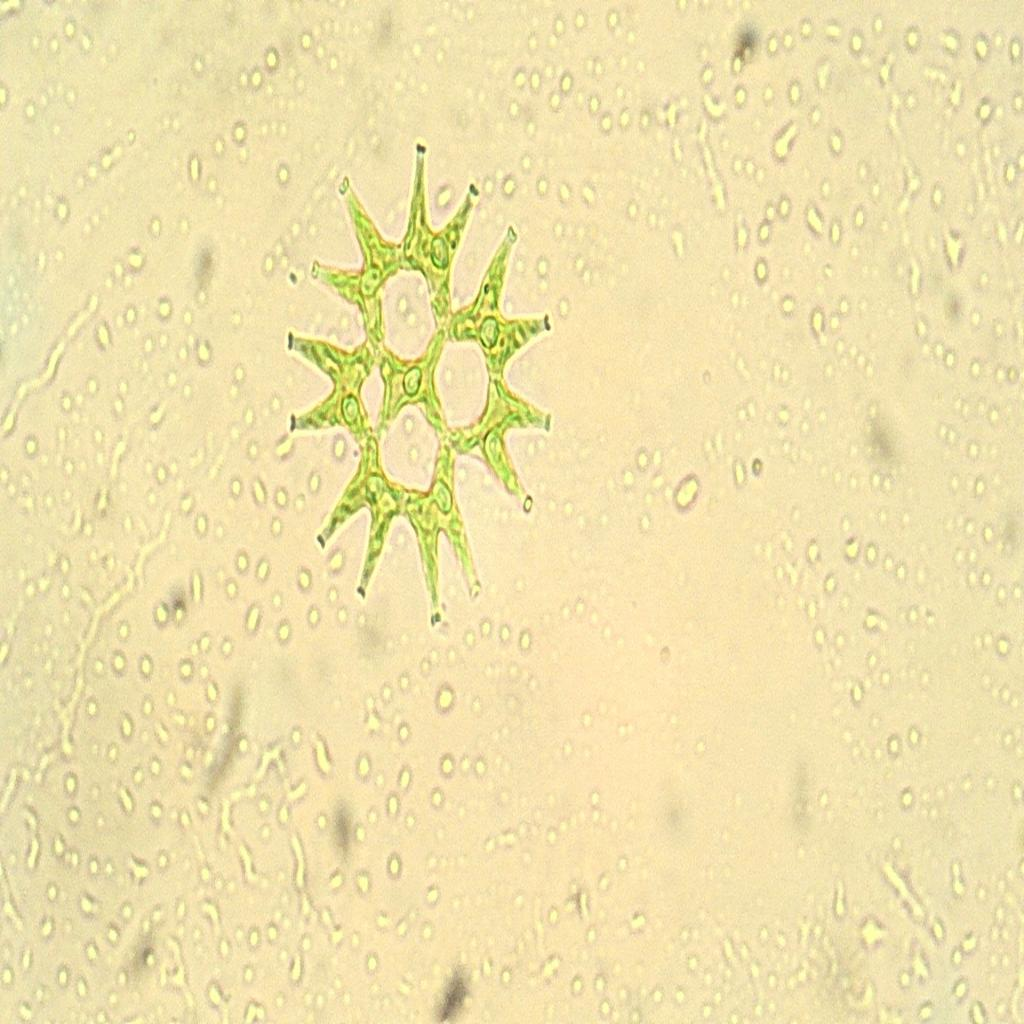Pediastrum_75T: (278, 116, 571, 648)
